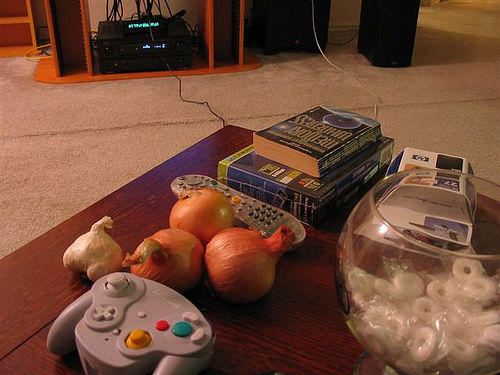onion: (203, 224, 300, 298), (121, 228, 207, 290), (166, 185, 236, 235)
